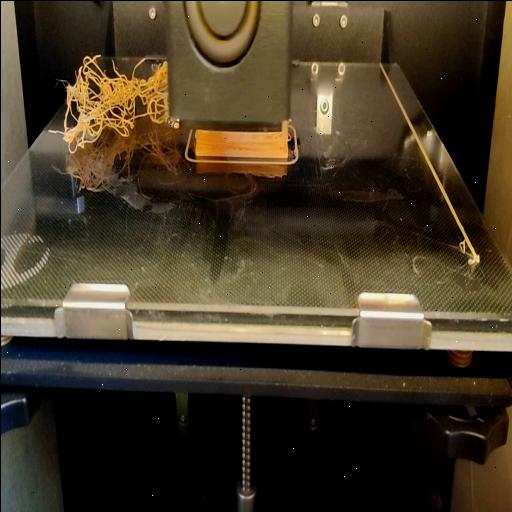spaghetti: (54, 49, 168, 150)
